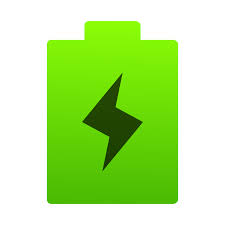charging sign: (33, 15, 196, 221)
